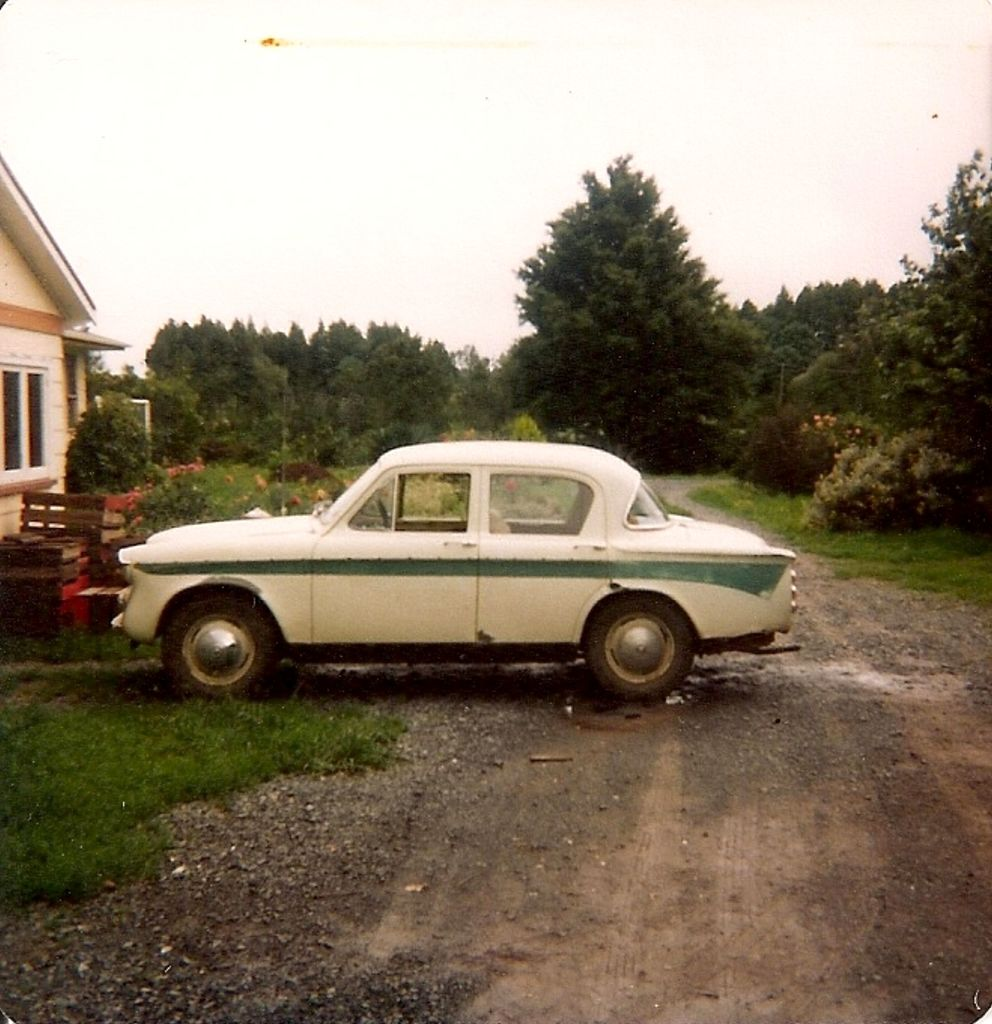Car: (105, 426, 807, 702)
